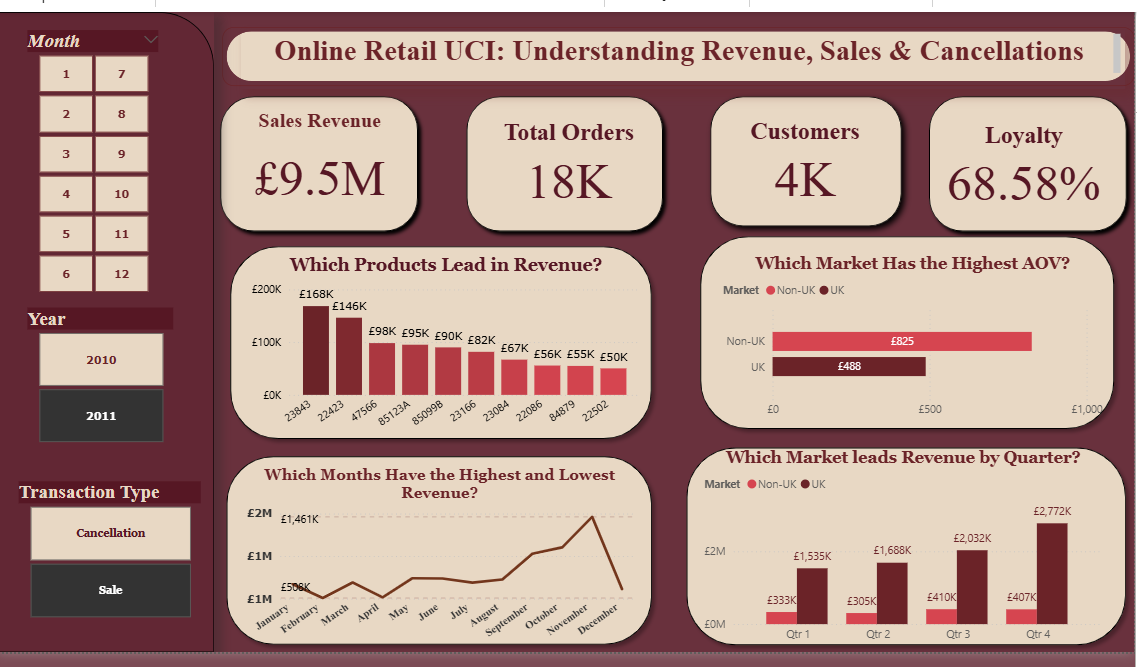

The page's visual inventory and layout, read from the dashboard file:
{"tool":"powerbi","page":{"name":"Page 1","canvas":[1280,720],"ordinal":0},"visuals":[{"type":"shape","box":[254.4,16.9,1025.9,66.1],"z":0},{"type":"shape","box":[254.4,254.4,491.9,234.7],"z":1000},{"type":"shape","box":[768,480.4,512,240.2],"z":2000},{"type":"shape","box":[520,85.7,238.9,170],"z":3000},{"type":"shape","box":[791.2,82.9,238.9,170],"z":4000},{"type":"shape","box":[243.1,85.7,240.3,170],"z":5000},{"type":"shape","box":[0,0,245.1,720],"z":6000},{"type":"cardVisual","fields":{"Data":["sales online_retail.revenue"]},"box":[238.9,109.6,250.2,127.9],"z":7000},{"type":"slicer","fields":{"Values":["sales online_retail.Month"]},"box":[22.5,15.5,172.9,306.4],"z":8000},{"type":"slicer","fields":{"Values":["sales online_retail.Year"]},"box":[22.5,327.4,189.7,163],"z":9000},{"type":"slicer","fields":{"Values":["sales online_retail.Transaction Type"]},"box":[12.6,522.8,230.5,164.4],"z":10000},{"type":"cardVisual","fields":{"Data":["sales online_retail.Total Orders"]},"box":[520,104,248.7,127.9],"z":11000},{"type":"cardVisual","fields":{"Data":["sales online_retail.Customers"]},"box":[785.6,102.6,248.7,129.3],"z":12000},{"type":"columnChart","title":"Which Products Lead in Revenue?","fields":{"Category":["sales online_retail.StockCode"],"Y":["sales online_retail.Top 5 Dynamic Revenue"]},"box":[282.5,272.6,446.9,215],"z":13000},{"type":"shape","box":[1040,85.7,240.3,170],"z":14000},{"type":"cardVisual","fields":{"Data":["sales online_retail.Repeat Customer Rate"]},"box":[1031.5,106.8,248.7,130.7],"z":15000},{"type":"shape","box":[250.7,491,496.2,229.7],"z":16000},{"type":"lineChart","title":"Which Months Have the Highest and Lowest Revenue?","fields":{"Y":["sales online_retail.revenue"],"Category":["sales online_retail.InvoiceDate.Variation.Date Hierarchy.Month"]},"box":[275.3,510.2,447.1,208.7],"z":17000},{"type":"shape","box":[782.8,243.1,483.4,234.7],"z":18000},{"type":"barChart","title":"Which Market Has the Highest AOV?","fields":{"Category":["sales online_retail.Market"],"Y":["sales online_retail.AOV"],"Series":["sales online_retail.Market"]},"box":[812.3,272.6,437.1,192.5],"z":19000},{"type":"clusteredColumnChart","title":"Which Market leads Revenue by Quarter?","fields":{"Y":["sales online_retail.revenue"],"Series":["sales online_retail.Market"],"Category":["sales online_retail.InvoiceDate.Variation.Date Hierarchy.Quarter"]},"box":[790.8,491,457.6,227.9],"z":20000},{"type":"textbox","box":[275.3,19.3,994.2,66.6],"z":21000}]}

Visuals, with their boxes on the page's 1280x720 design canvas (x1, y1, x2, y2). These are canvas units, not pixel positions in the 1137x667 screenshot, which may show the page scaled, cropped or inside an application window:
shape: select_region(254, 17, 1280, 83)
shape: select_region(254, 254, 746, 489)
shape: select_region(768, 480, 1280, 721)
shape: select_region(520, 86, 759, 256)
shape: select_region(791, 83, 1030, 253)
shape: select_region(243, 86, 483, 256)
shape: select_region(0, 0, 245, 720)
cardVisual - sales online_retail.revenue: select_region(239, 110, 489, 238)
slicer - sales online_retail.Month: select_region(22, 16, 195, 322)
slicer - sales online_retail.Year: select_region(22, 327, 212, 490)
slicer - sales online_retail.Transaction Type: select_region(13, 523, 243, 687)
cardVisual - sales online_retail.Total Orders: select_region(520, 104, 769, 232)
cardVisual - sales online_retail.Customers: select_region(786, 103, 1034, 232)
"Which Products Lead in Revenue?" columnChart: select_region(282, 273, 729, 488)
shape: select_region(1040, 86, 1280, 256)
cardVisual - sales online_retail.Repeat Customer Rate: select_region(1032, 107, 1280, 238)
shape: select_region(251, 491, 747, 721)
"Which Months Have the Highest and Lowest Revenue?" lineChart: select_region(275, 510, 722, 719)
shape: select_region(783, 243, 1266, 478)
"Which Market Has the Highest AOV?" barChart: select_region(812, 273, 1249, 465)
"Which Market leads Revenue by Quarter?" clusteredColumnChart: select_region(791, 491, 1248, 719)
textbox: select_region(275, 19, 1270, 86)
